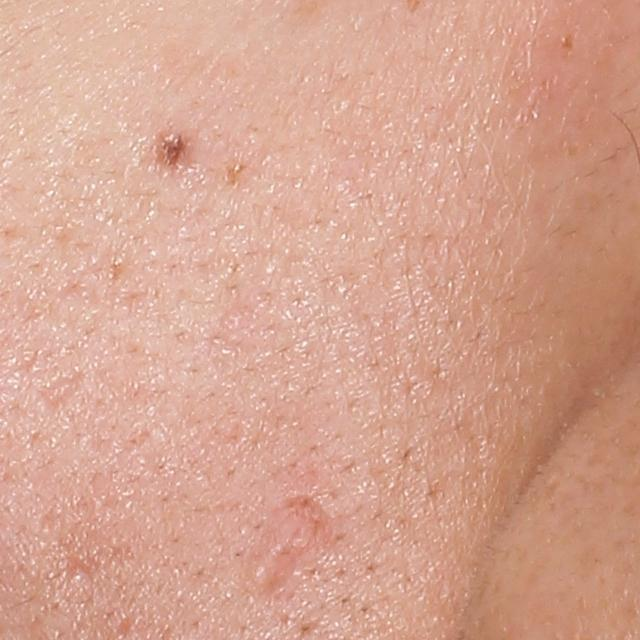atrophic_scar: (39, 371, 84, 414)
comedo: (66, 558, 93, 585)
